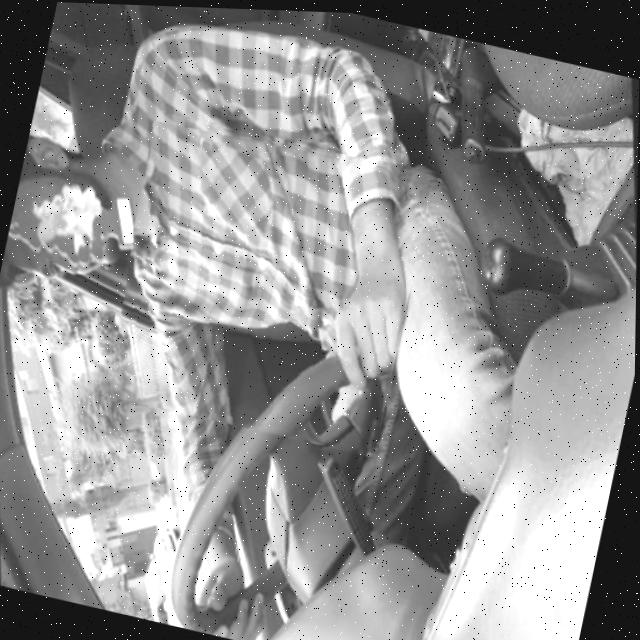no-seatbelt: (99, 109, 435, 456)
